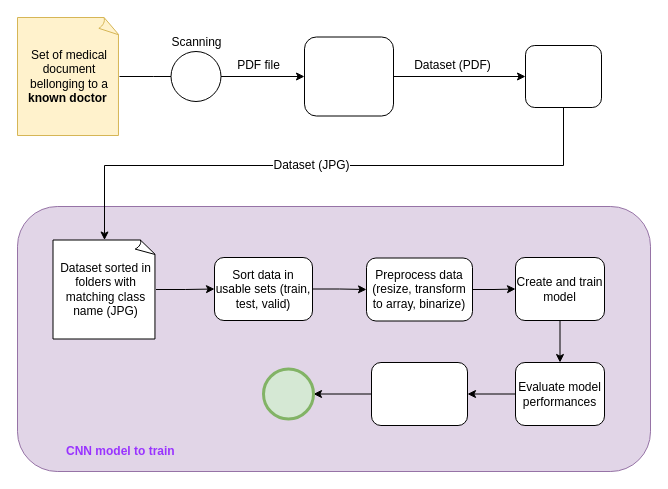
This 668x489 diagram has some shape labels left out. Here are the shapes that lost their labels. From the top down, the centre of each, then its label:
At [349,76]: "Manually sort images in folders with matching class name".
At [563,76]: "PDF to JPG conversion".
At [419,394]: "Save model for futur predictions".
